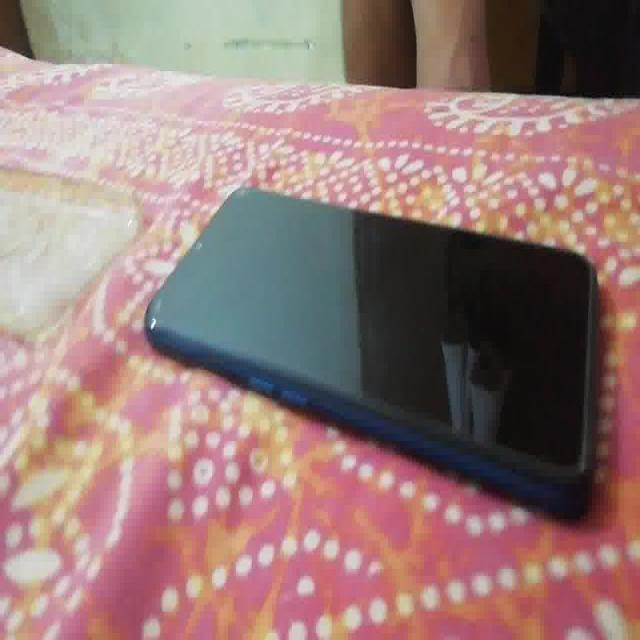phone: (144, 183, 602, 528)
